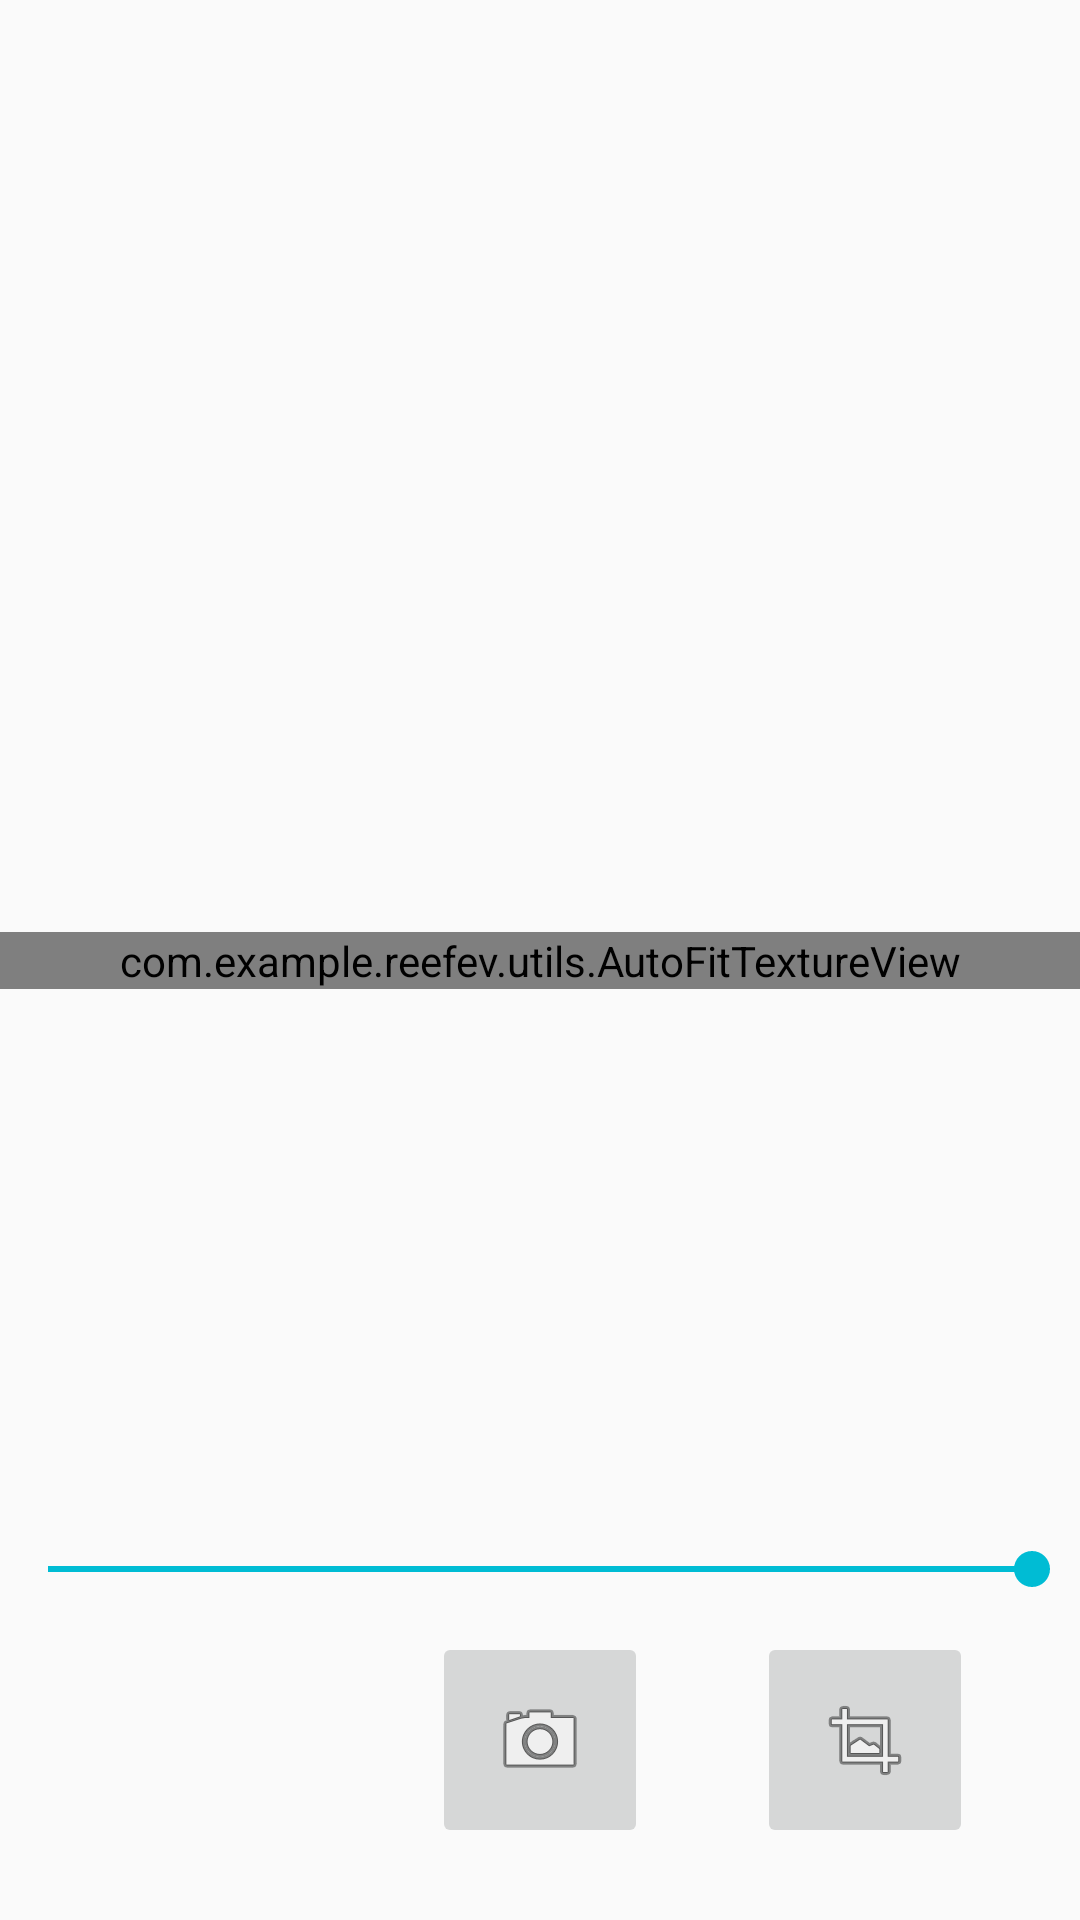

Icon click points for this 1080px×1920px phone screenshot, format [x,y]:
camera: [540,1740]
crop: [865,1740]
